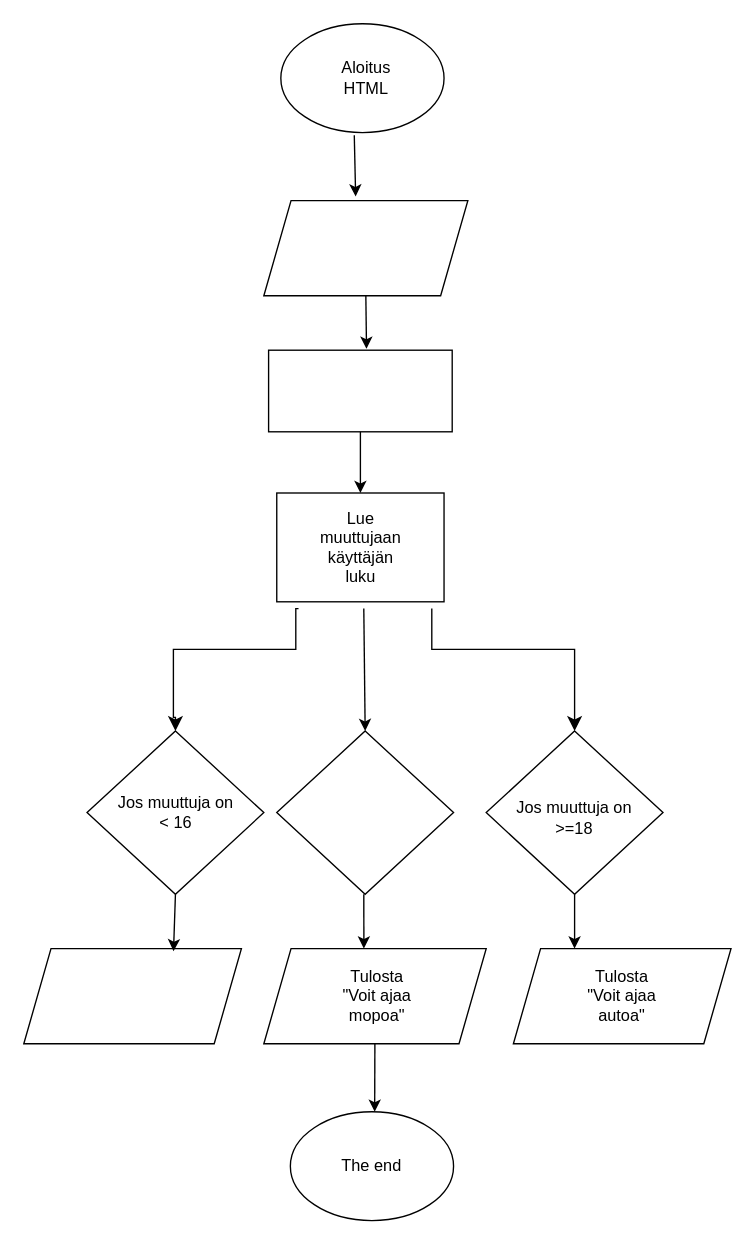
The diagram is 755 pixels wide and 1244 high, and some of its shapes have lost their labels. The centre of each missing label's shape, as x and y in pixels:
Jos muuttuja on < 18: pixel 364 812
Kysy käyttäjän ikää: pixel 365 247
Luo muuttuja: pixel 359 390
Tulosta "Voit ajaa polkupyörää": pixel 131 995
